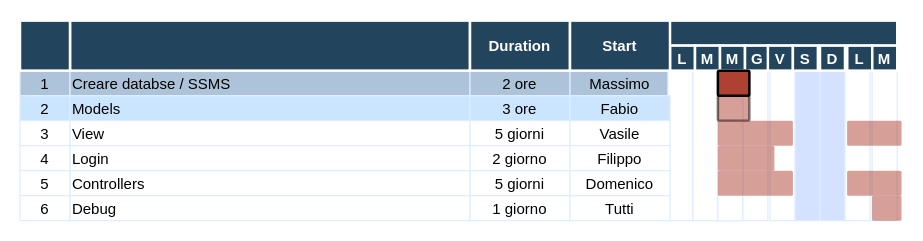
The diagram is 923 pixels wide and 241 high, and some of its shapes have lost their labels. The shapes that lost their labels are listed below. From the top down, each one's box as (x1, y1, x2, y2) in pixels, then its label:
(68, 19, 471, 71): Task Name
(666, 19, 898, 46): Settembre 2023
